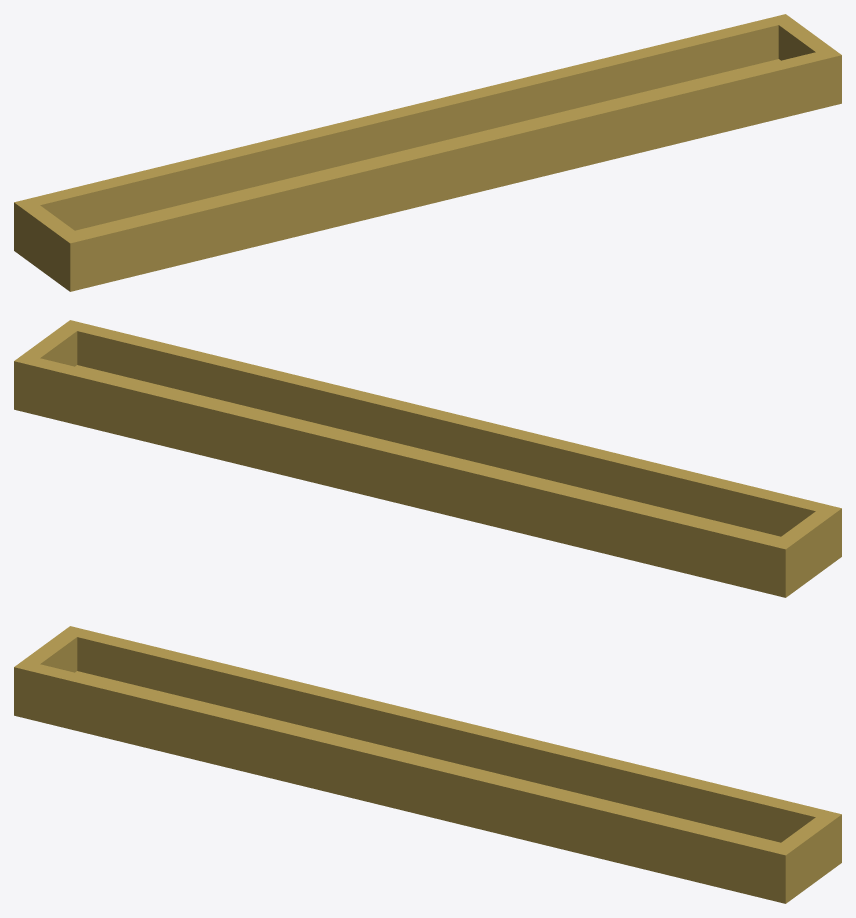
File: sandstone_fountain.glb
3 views of the same model, one above another, from view 1: azimuth 30°, elevation 25°; view 2: azimuth 150°, elevation 25°; view 3: azimuth 330°, elevation 25° (orthographic).
Visible parts, largest first — view 1: Cube; view 2: Cube; view 3: Cube.
Part boxes in pixels (bbox=[...]): Cube: bbox=[14, 14, 841, 291]; Cube: bbox=[14, 320, 841, 597]; Cube: bbox=[14, 626, 841, 903].
Size of the model in its own units: 9.99 by 0.6 by 1.26.
